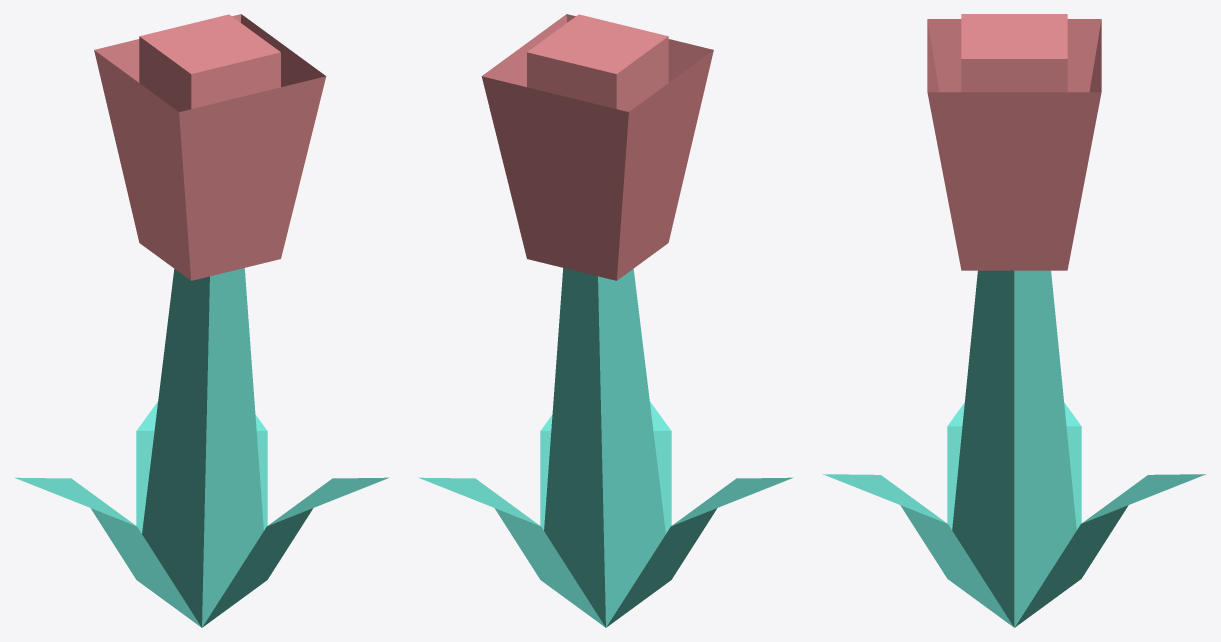
Rendered from flower_redA.glb.
3 views of the same model, side by side, from view 1: azimuth 30°, elevation 25°; view 2: azimuth 150°, elevation 25°; view 3: azimuth 270°, elevation 25° (orthographic). The views are drawn at different scales.
Parts seen in each view (by area): view 1: flower_redA; view 2: flower_redA; view 3: flower_redA.
Part boxes in pixels (x1,y1,x2,y2): flower_redA: [14, 14, 389, 627]; flower_redA: [418, 14, 793, 627]; flower_redA: [822, 14, 1206, 627].
Bounding box in the file's own units: 0.1591 × 0.2925 × 0.1811.
Materials: 1 (1 with a texture image).
